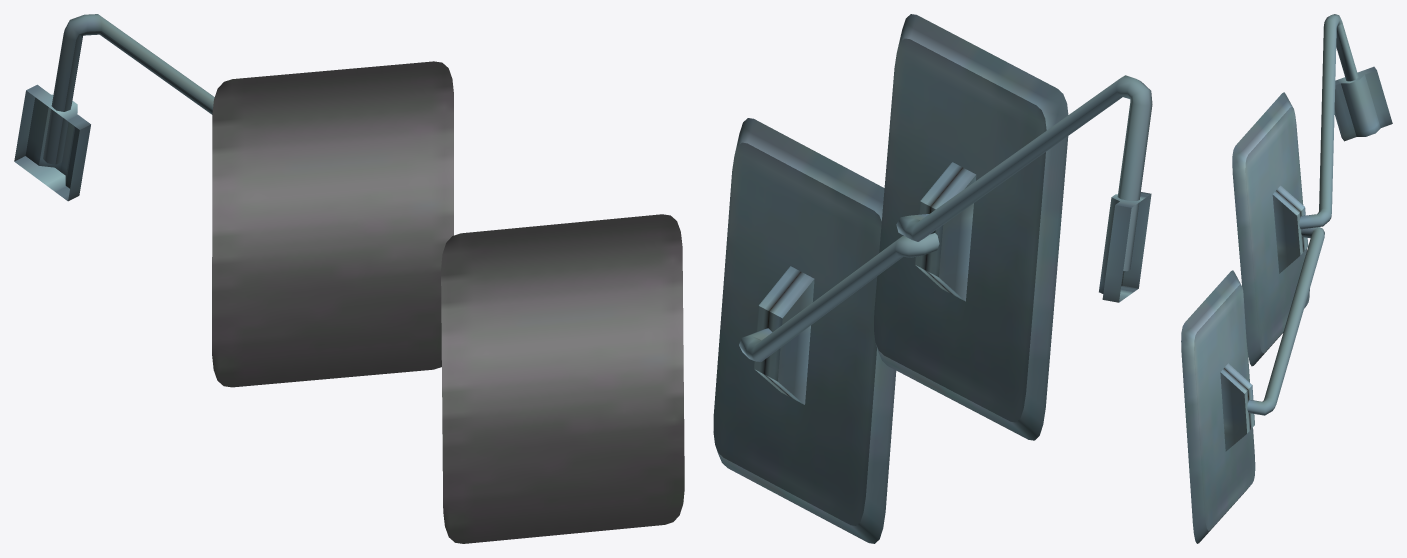
Rendered from mirror_r.fbx.
3 views of the same model, side by side, from view 1: azimuth 30°, elevation 25°; view 2: azimuth 150°, elevation 25°; view 3: azimuth 270°, elevation 25° (orthographic). The views are drawn at different scales.
Visible parts, largest first — view 1: mirror_r; view 2: mirror_r; view 3: mirror_r.
Boxes of the visible parts, <box> form: mirror_r: <box>14,14,684,543</box>; mirror_r: <box>713,14,1152,543</box>; mirror_r: <box>1181,14,1392,543</box>.
Size of the model in its own units: 0.2896 by 0.2946 by 0.1513.
